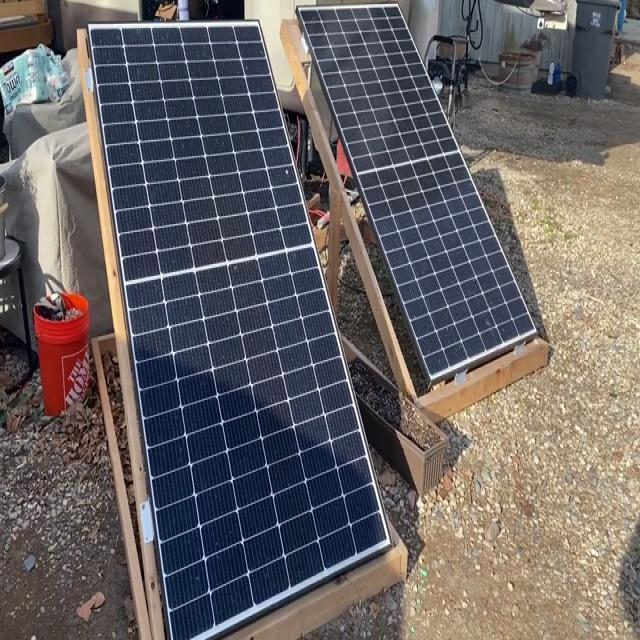Normal Solar Panel: (91, 23, 391, 640), (301, 7, 537, 383)
